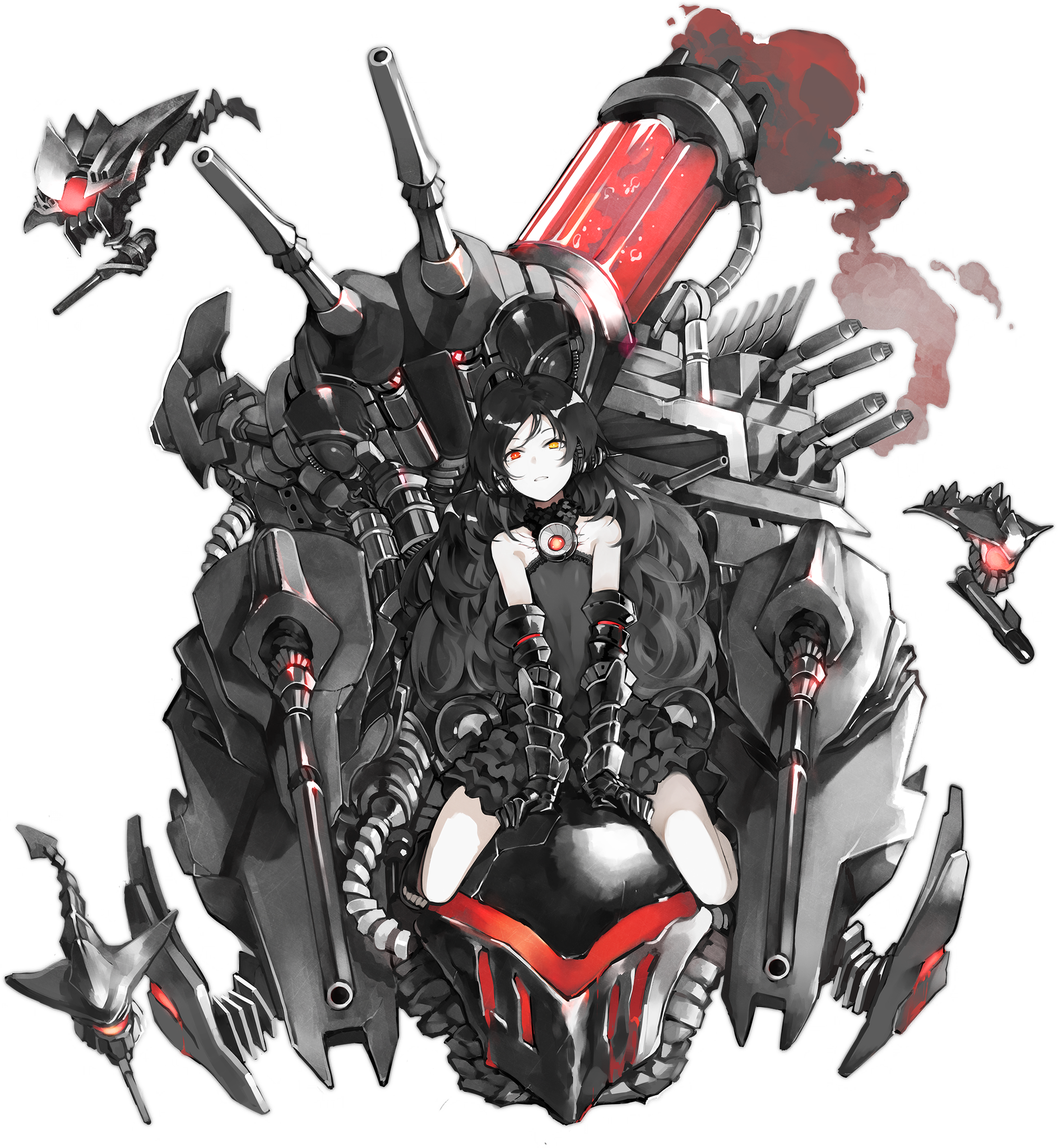person: (329, 274, 775, 1111)
